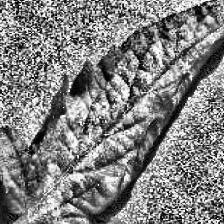leaf mold: (4, 0, 224, 224)
